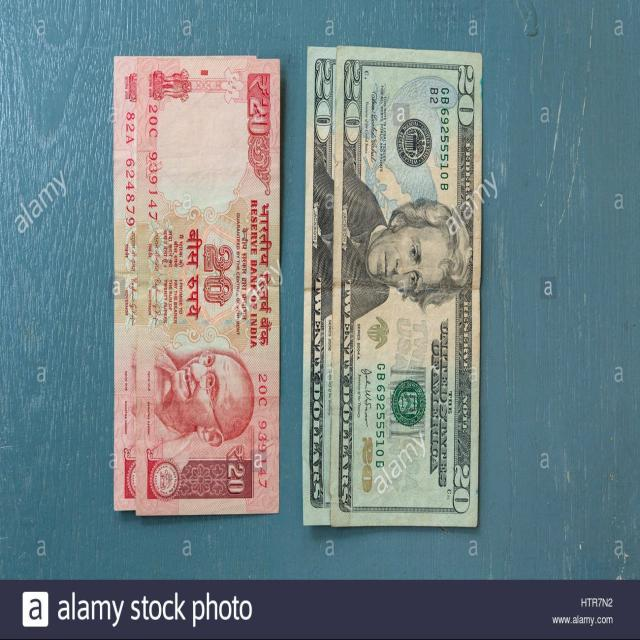20IndianRupees: (131, 57, 277, 514)
